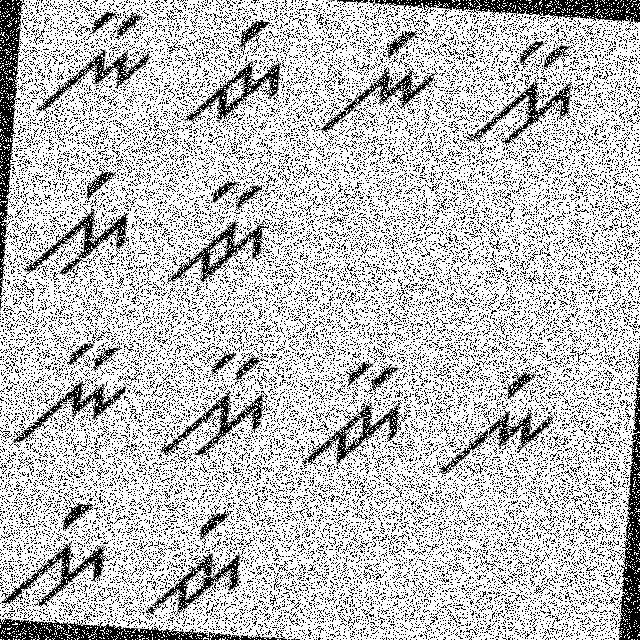jan: (294, 351, 419, 473), (163, 172, 277, 292)
jang: (134, 500, 258, 622), (179, 12, 288, 134)
nyan: (25, 1, 160, 121), (10, 330, 136, 450)
nyang: (427, 363, 560, 496), (316, 18, 442, 142)
san: (456, 28, 586, 156), (160, 348, 270, 470)
sang: (16, 156, 132, 288), (0, 495, 117, 614)
